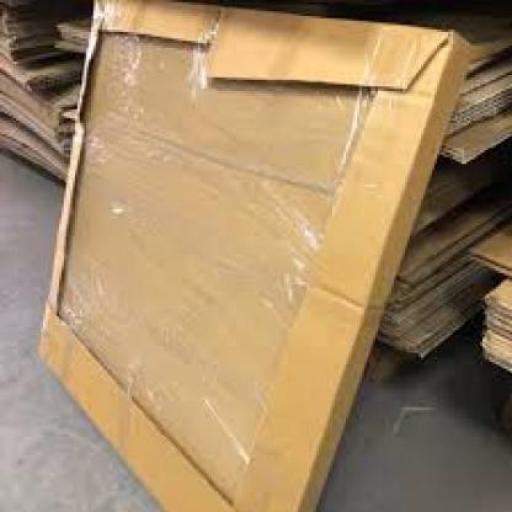cardboard: (34, 0, 471, 510), (55, 10, 510, 160), (373, 158, 509, 360), (0, 70, 80, 182), (0, 0, 72, 66), (478, 282, 510, 373), (466, 224, 510, 278)
